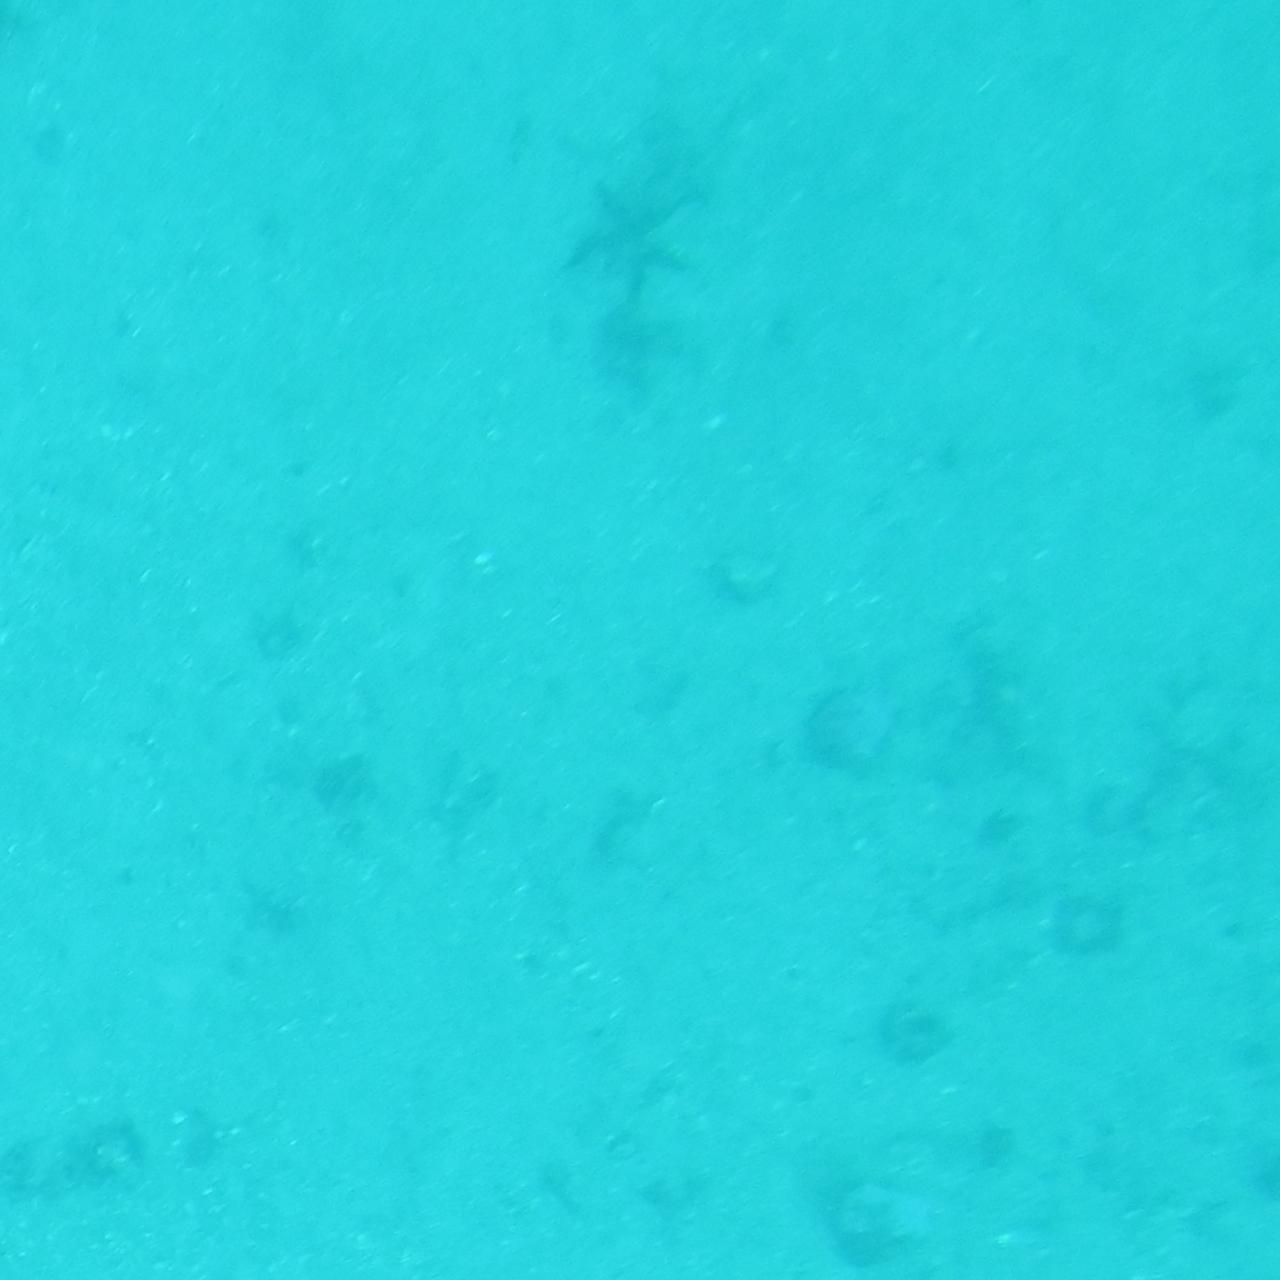Asteroidea: (570, 193, 710, 302)
